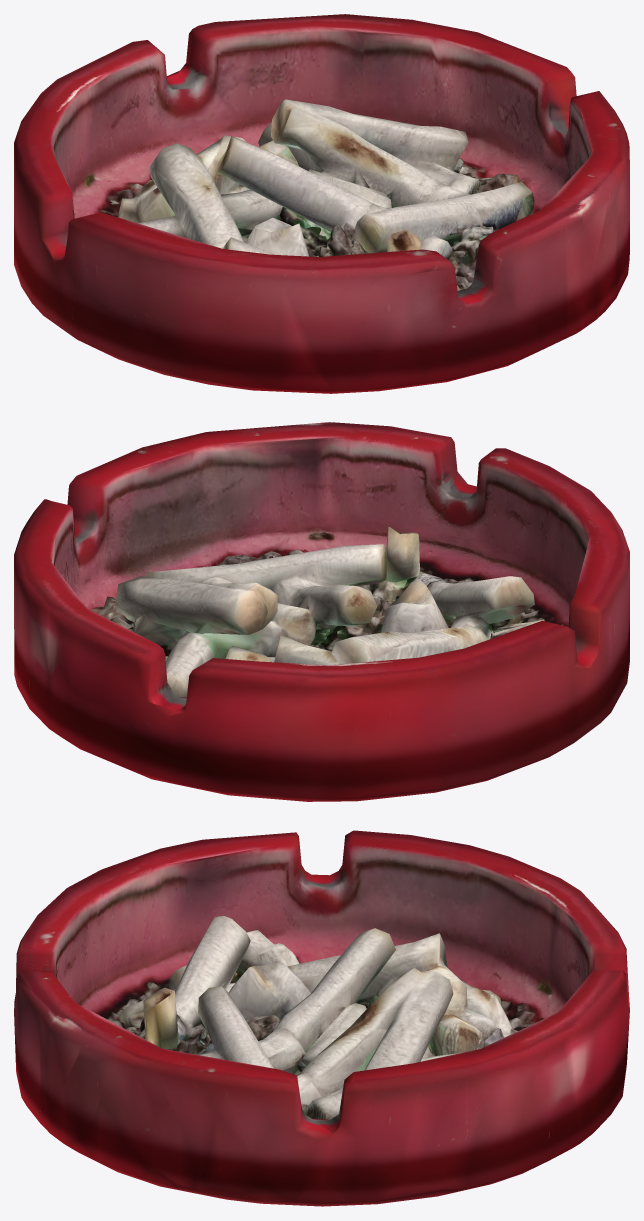
Rendered from smoke.glb.
The picture shows the model from 3 angles, top to bottom: view 1: azimuth 30°, elevation 25°; view 2: azimuth 150°, elevation 25°; view 3: azimuth 270°, elevation 25°; orthographic projection.
Size of the model in its own units: 1.91 by 0.53 by 1.91.
1 material, 1 textured.
